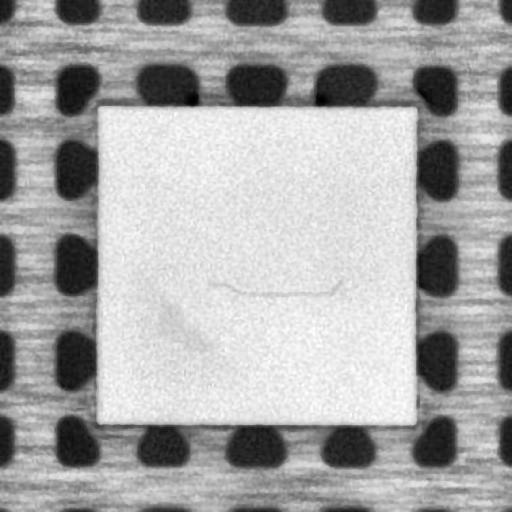DIE_CRACK: (208, 270, 346, 296)
